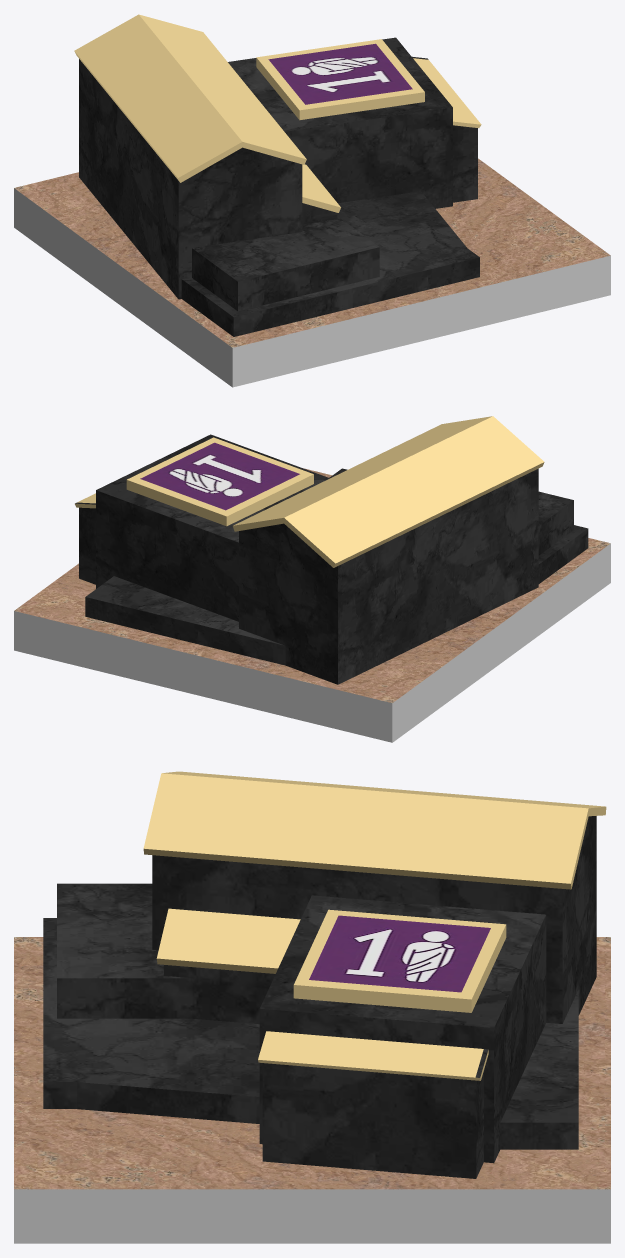
The model's file is buildingDomusI.glb.
3 views of the same model, one above another, from view 1: azimuth 30°, elevation 25°; view 2: azimuth 150°, elevation 25°; view 3: azimuth 270°, elevation 25° (orthographic). The views are drawn at different scales.
Visible parts, largest first — view 1: Domus; view 2: Domus; view 3: Domus.
Boxes of the visible parts, left/top/right/bottom form: Domus: left=14, top=14, right=610, bottom=387; Domus: left=14, top=416, right=610, bottom=742; Domus: left=14, top=771, right=610, bottom=1243.
Bounding box in the file's own units: 2 × 0.9629 × 2.
Materials: 5 (3 with a texture image).
